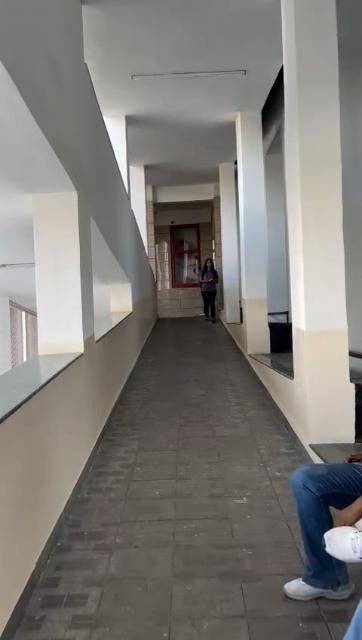floor: (3, 316, 300, 640)
moving-obj: (278, 436, 362, 640), (188, 259, 236, 337)
wall: (291, 14, 347, 388), (31, 0, 83, 356), (90, 99, 146, 345), (225, 113, 273, 350)
